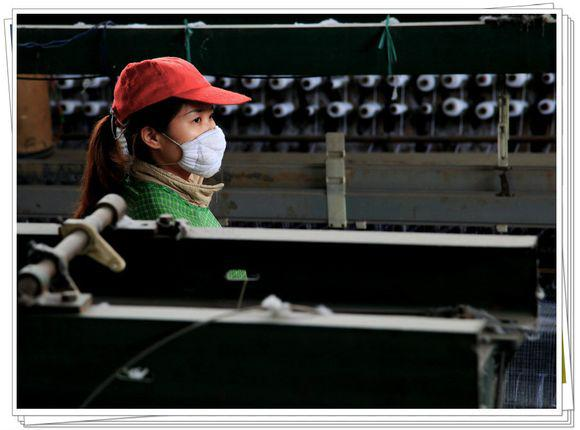OK: (148, 97, 225, 174)
